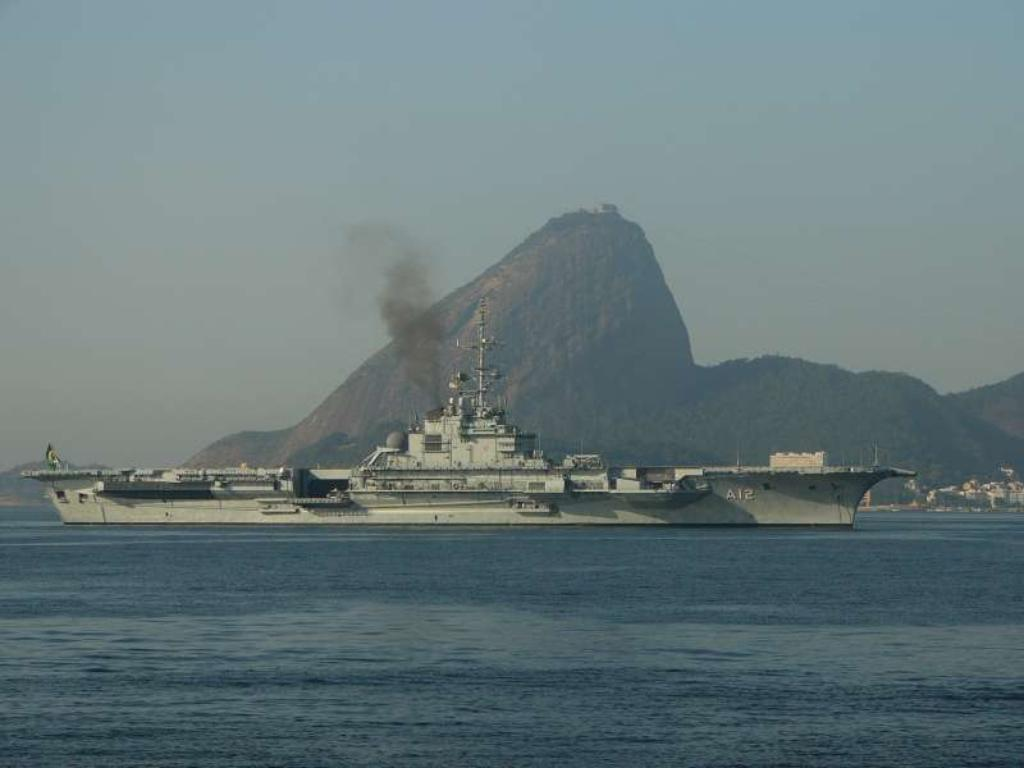Warship: (12, 298, 916, 538)
